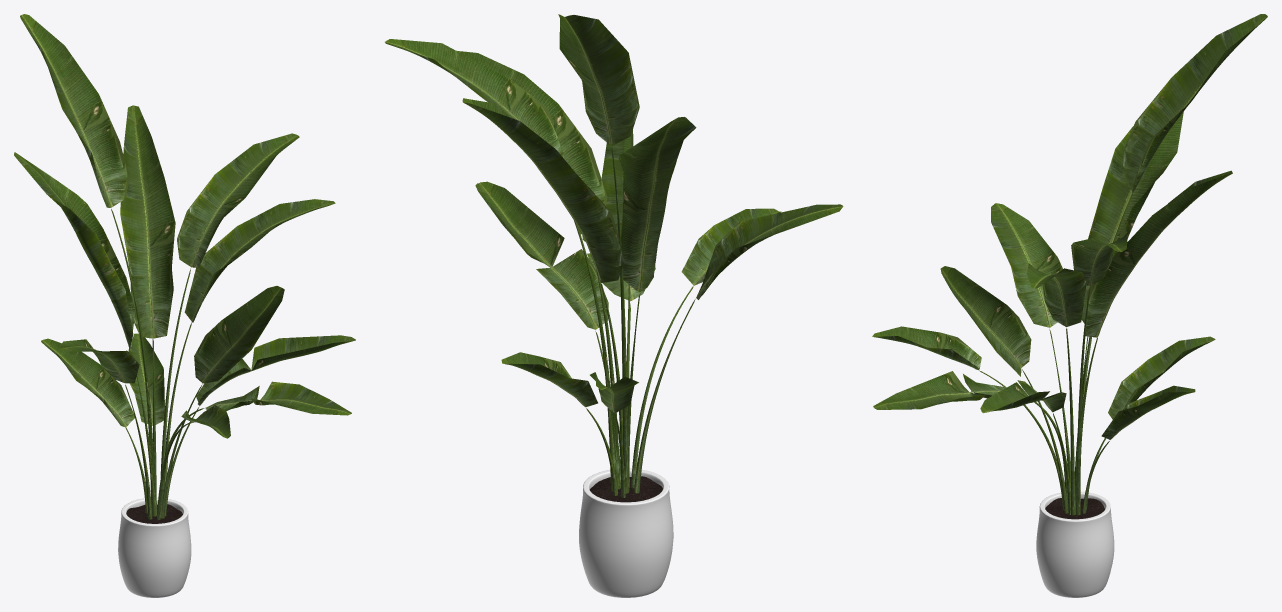
File: potted_palm.glb
3 views of the same model, side by side, from view 1: azimuth 30°, elevation 25°; view 2: azimuth 150°, elevation 25°; view 3: azimuth 270°, elevation 25° (orthographic). The views are drawn at different scales.
Parts seen in each view (by area): view 1: ID35, ID4, ID17; view 2: ID35, ID4, ID17; view 3: ID35, ID4, ID17.
Boxes of the visible parts, x1=… form: ID35: x1=14, y1=14, x2=355, y2=519; ID4: x1=118, y1=497, x2=191, y2=597; ID17: x1=126, y1=504, x2=182, y2=523; ID35: x1=385, y1=14, x2=843, y2=497; ID4: x1=579, y1=468, x2=673, y2=597; ID17: x1=589, y1=476, x2=662, y2=502; ID35: x1=872, y1=14, x2=1267, y2=515; ID4: x1=1036, y1=491, x2=1114, y2=597; ID17: x1=1045, y1=498, x2=1104, y2=519.
Bounding box in the file's own units: 0.8941 × 1.49 × 0.9733.
4 materials, 3 textured.
